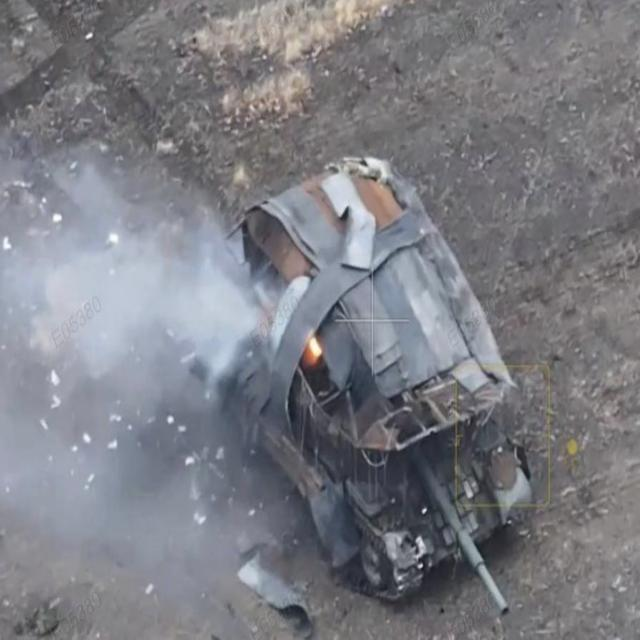vehicle: (185, 152, 536, 618)
